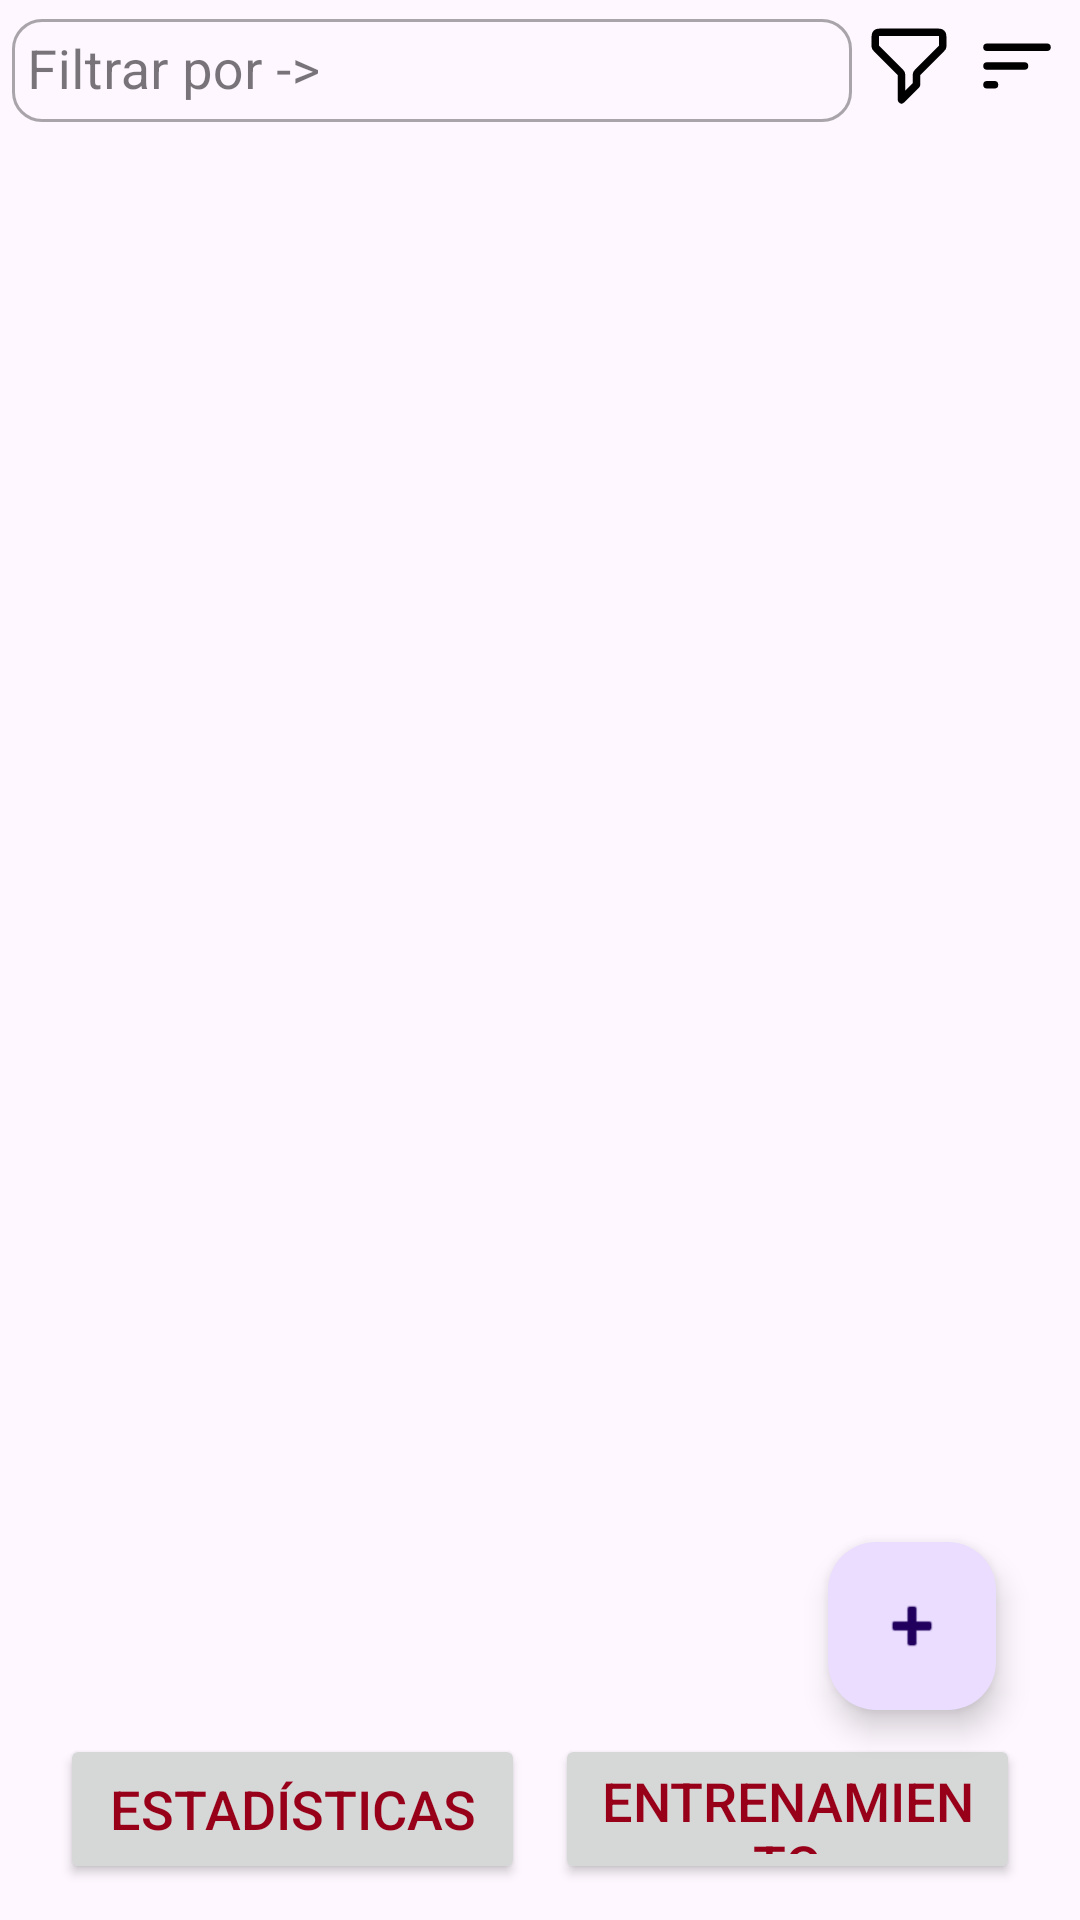

Where icons sit on this 1080*1920 app screen, as [x1,y1,x2,y2]:
add: [828,1542,996,1710]
filter: [871,28,947,104]
sort: [983,43,1051,89]
